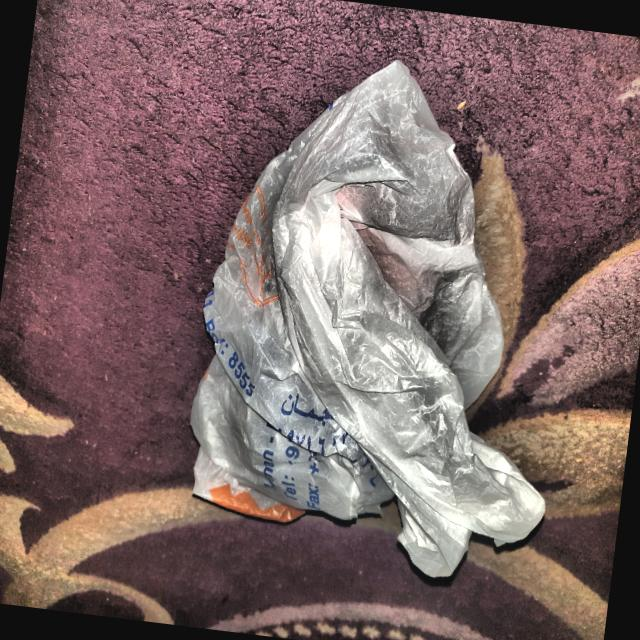plastic bag: (146, 24, 609, 604)
